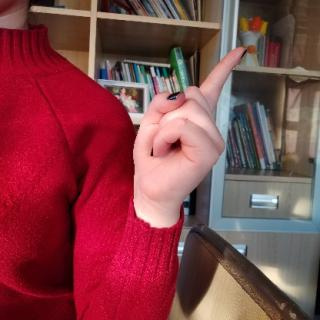RAA: (127, 42, 250, 234)
